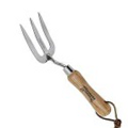fork: (17, 6, 128, 126)
